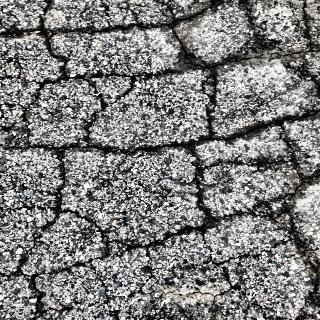alligator-crack: (17, 10, 320, 314), (146, 40, 303, 282), (53, 29, 178, 300)
